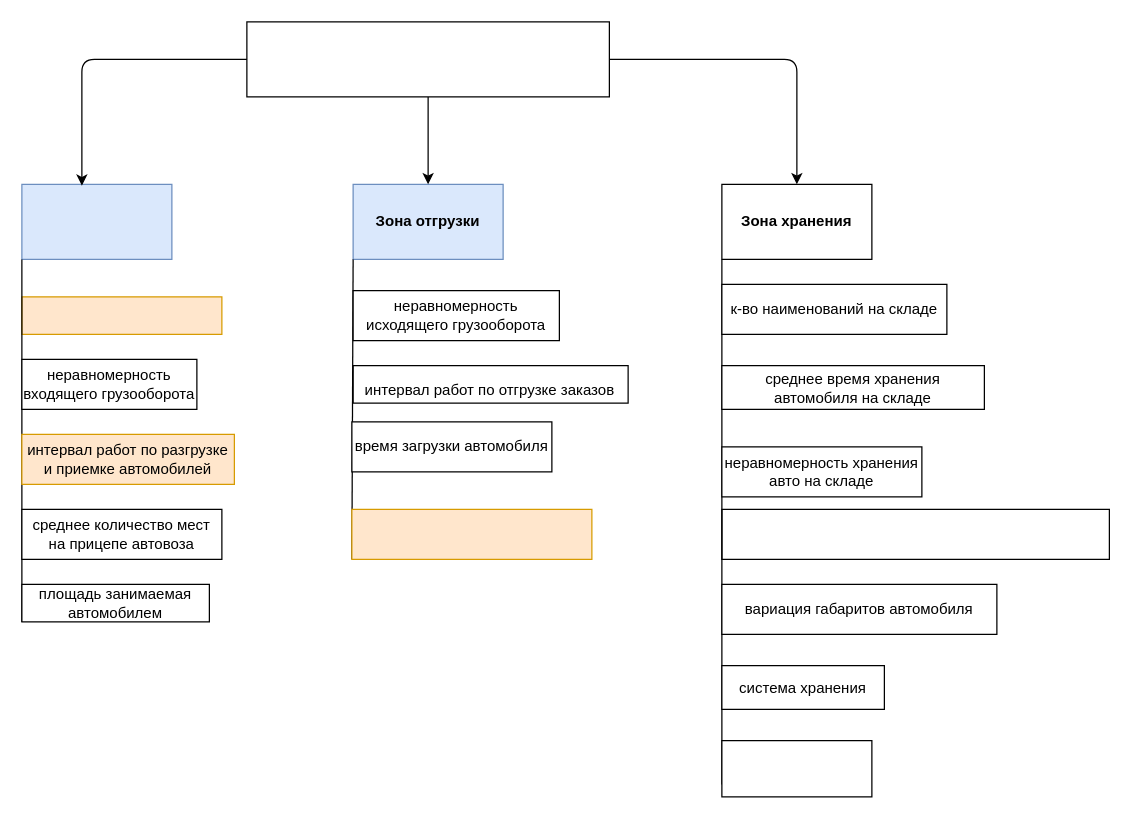
Some shapes in this 1131 by 819 pixel diagram are drawn without their labels. Here are the shapes that lost their labels. From the top down, the centre of each, then its label:
point 427,59: Операционные зоны склада
point 96,221: Зона приемки
point 121,315: среднесуточный обьем входящего грузооборота
point 471,533: среднее количество заказов в прицепе автовоза
point 915,533: площадь которое занимает место для автомобиля
point 796,768: специальные требования к хранению
